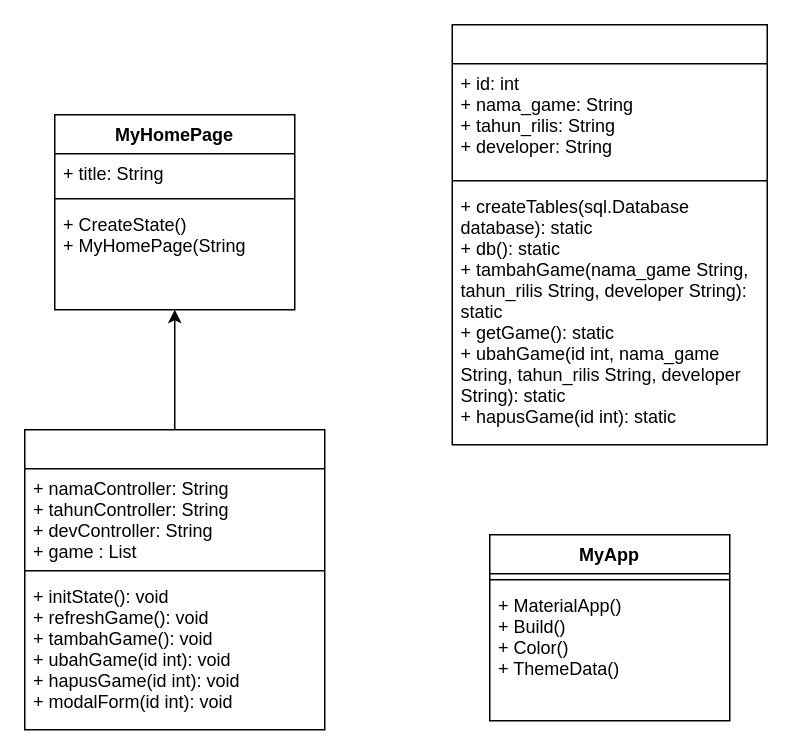
The diagram is 792 pixels wide and 755 high, and some of its shapes have lost their labels. Each missing label, with the box of its shape:
_MyHomePageState: (23, 428, 325, 730)
SQLHelper: (451, 23, 767, 445)
